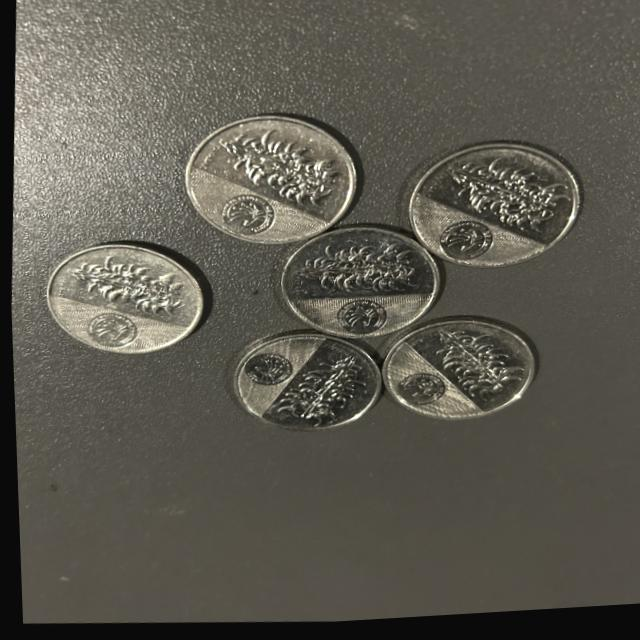5_New_Back: (208, 123, 340, 218), (435, 153, 567, 241), (66, 236, 194, 326), (282, 230, 429, 308), (267, 354, 369, 434)
